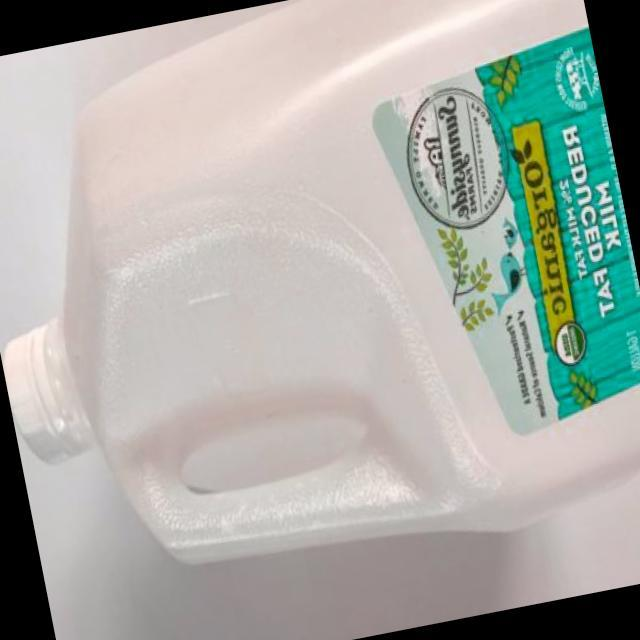HDPE Plastic: (1, 0, 639, 575)
